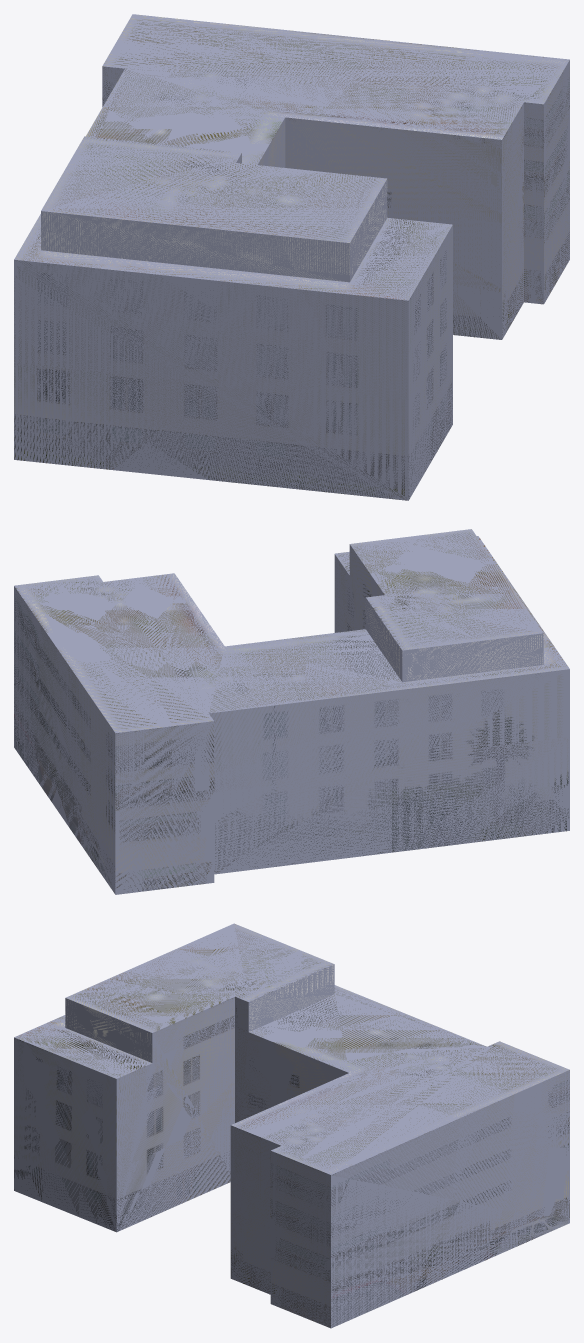
The model's file is Ciencias económicas.fbx.
3 views of the same model, one above another, from view 1: azimuth 30°, elevation 25°; view 2: azimuth 150°, elevation 25°; view 3: azimuth 270°, elevation 25° (orthographic). The views are drawn at different scales.
Visible parts, largest first — view 1: Group1; view 2: Group1; view 3: Group1.
Boxes of the visible parts, x1,y1,x2,y2 form: Group1: (14,14,569,500); Group1: (14,529,569,894); Group1: (14,923,569,1328).
Bounding box in the file's own units: 62.97 × 23.15 × 63.57.
